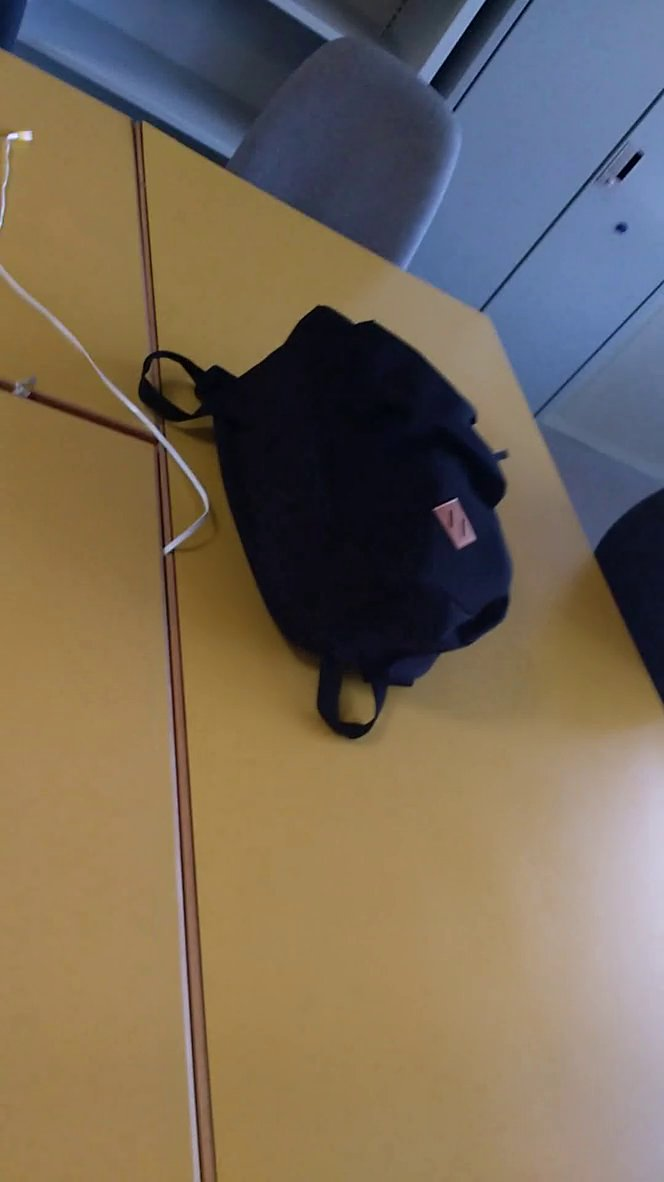bag: (135, 291, 524, 744)
chair: (218, 23, 471, 294)
